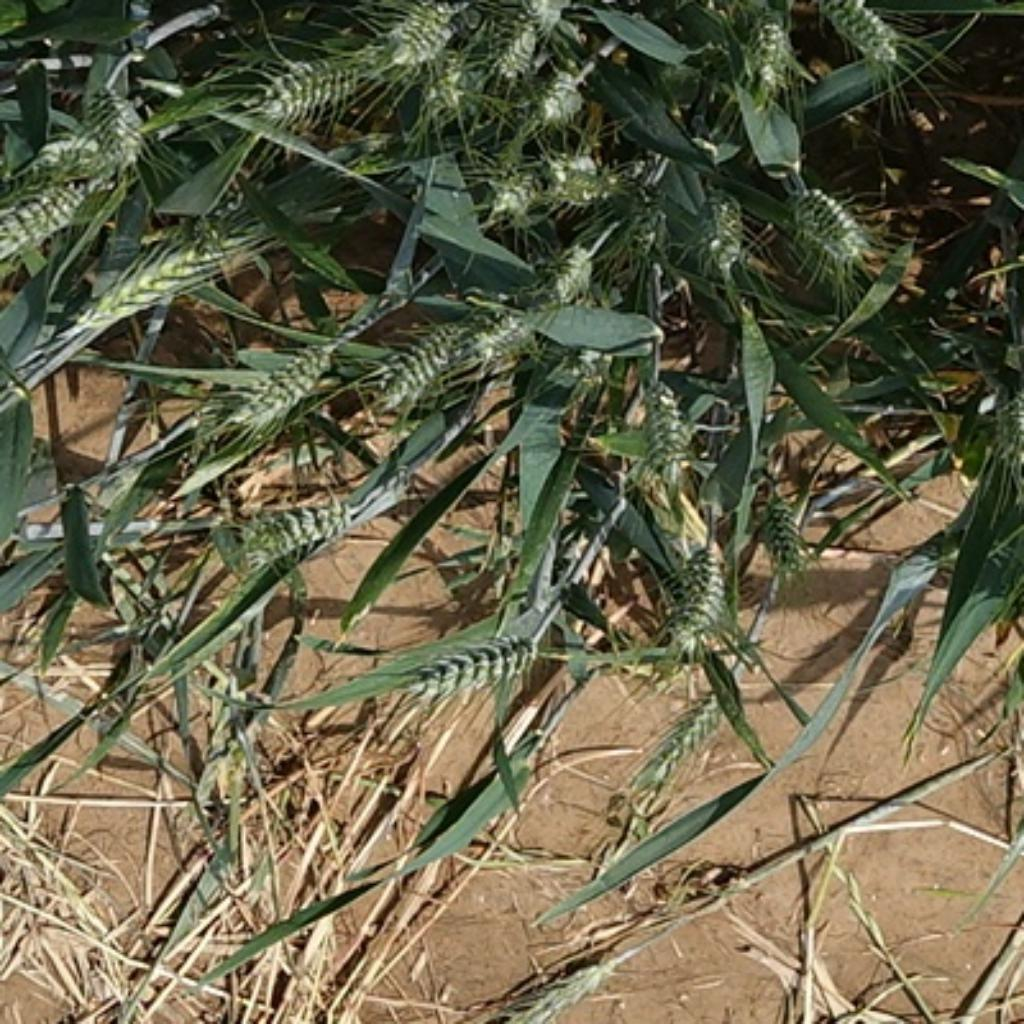0-0: (81, 194, 261, 337), (396, 621, 552, 719), (345, 312, 457, 424), (227, 327, 340, 435), (235, 487, 367, 572), (519, 145, 663, 222), (0, 161, 102, 269), (655, 527, 739, 655), (611, 371, 698, 494), (636, 691, 740, 791), (250, 43, 366, 128), (787, 179, 887, 276), (670, 179, 750, 281), (366, 0, 465, 79), (478, 2, 558, 94), (721, 0, 798, 94), (91, 77, 155, 185), (803, 0, 908, 64), (478, 145, 560, 225), (461, 307, 544, 382), (755, 491, 821, 583), (414, 51, 486, 130), (972, 378, 1024, 476), (519, 61, 586, 130), (537, 235, 606, 302), (506, 0, 583, 46)
